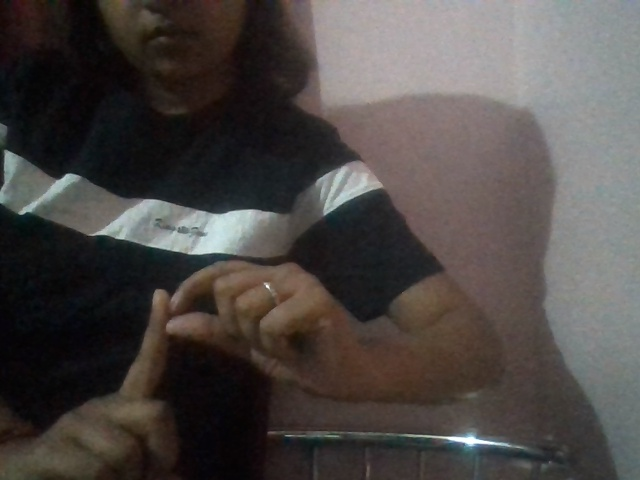P: (8, 230, 411, 480)
